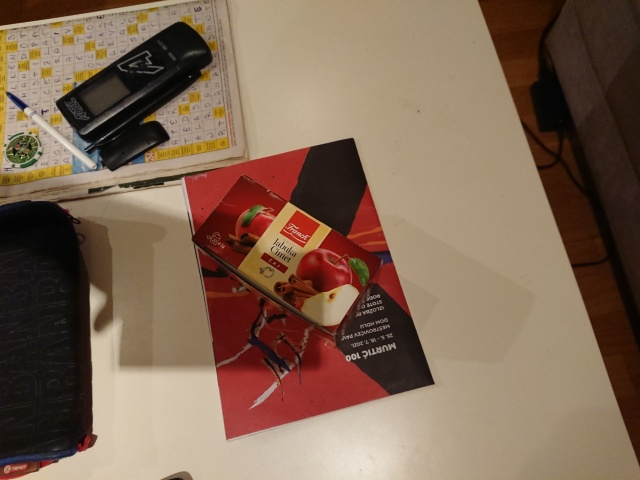Franck Apple Cinnamon Tea 60g: (188, 172, 387, 351)
